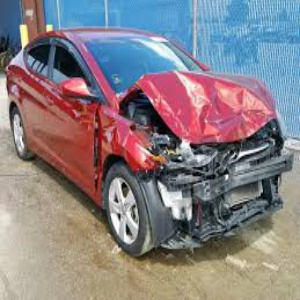bonnet: (144, 67, 277, 135)
bumper: (161, 160, 286, 234)
